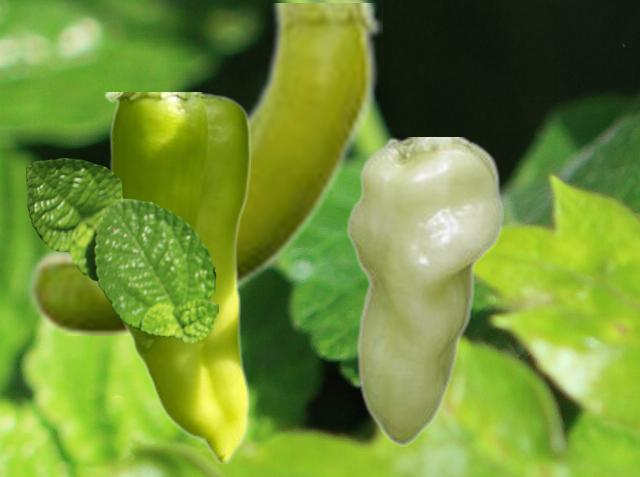green_chili: (24, 3, 381, 334), (103, 92, 249, 462), (343, 137, 502, 445)
